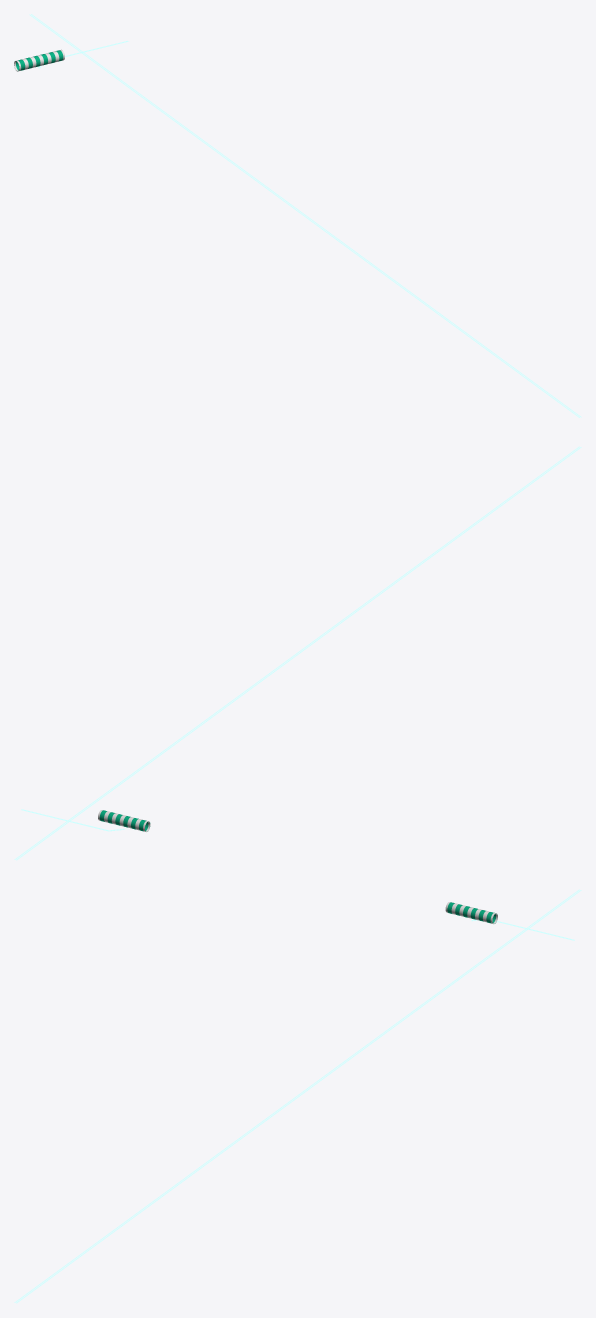
The picture shows the model from 3 angles, top to bottom: view 1: azimuth 30°, elevation 25°; view 2: azimuth 150°, elevation 25°; view 3: azimuth 330°, elevation 25°; orthographic projection. The views are drawn at different scales.
Visible parts, largest first — view 1: 扫描.2, 扫描.1, 管道; view 2: 扫描.2, 扫描.1, 管道; view 3: 扫描.2, 扫描.1, 管道.
Boxes of the visible parts, x1=… form: 扫描.2: x1=31, y1=14, x2=581, y2=417; 扫描.1: x1=29, y1=14, x2=579, y2=417; 管道: x1=14, y1=49, x2=64, y2=71; 扫描.2: x1=14, y1=446, x2=579, y2=859; 扫描.1: x1=16, y1=447, x2=581, y2=860; 管道: x1=98, y1=810, x2=150, y2=831; 扫描.2: x1=16, y1=890, x2=581, y2=1303; 扫描.1: x1=14, y1=889, x2=579, y2=1302; 管道: x1=445, y1=902, x2=497, y2=923.
Size of the model in its own units: 1245 by 128 by 10087.
Materials: 2 (1 with a texture image).
